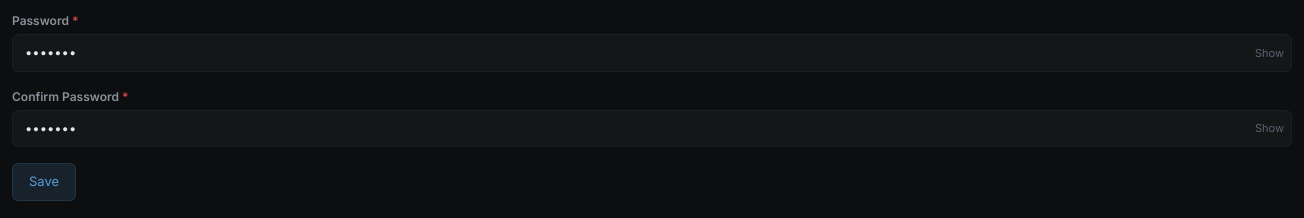
Scenario: DynamicConfigForm › handles multiple password fields independently
// Show first password
Click the 1st button "Show" at (1270, 53), box [1255,44,1284,61]
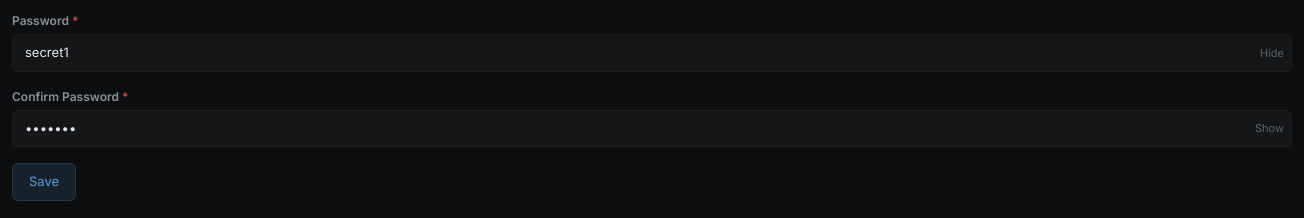
Expected: the field showing "secret1" shows its text, [12,34,1292,72]
// Show second password
Click the button "Show" at (1270, 128), box [1255,120,1284,136]
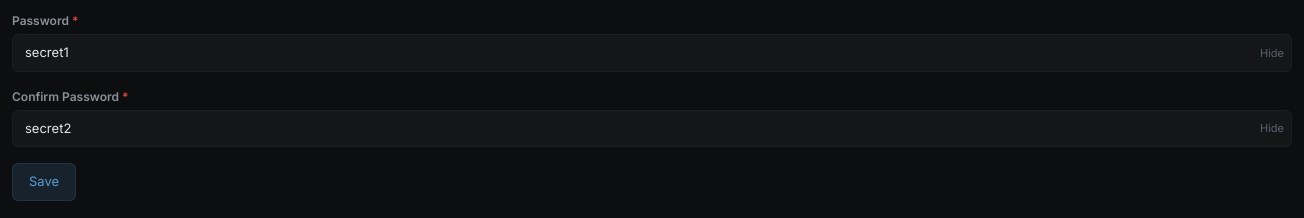
Expected: the 1st field showing "secret1" shows its text, [12,34,1292,72]
Expected: the field showing "secret2" below "Confirm Password" shows its text, [12,110,1292,147]
